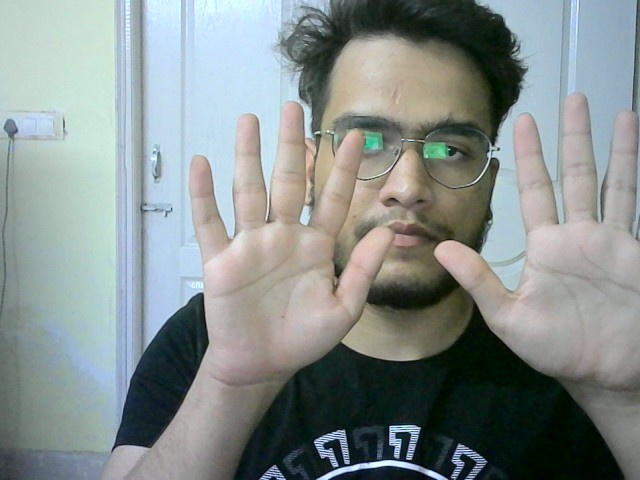Hello: (425, 92, 640, 402), (182, 96, 398, 379)
